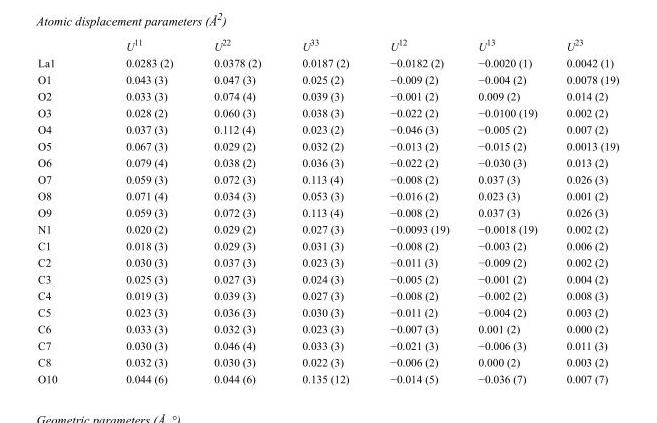table: (37, 36, 618, 384)
table column: (90, 36, 192, 384), (369, 36, 463, 384), (280, 36, 369, 384), (192, 36, 280, 384), (463, 36, 551, 384), (551, 36, 618, 384), (37, 36, 90, 384)
table column header: (37, 36, 618, 54)
table row: (37, 36, 618, 54), (37, 70, 618, 87), (37, 87, 618, 104), (37, 120, 618, 137), (37, 153, 618, 170), (37, 170, 618, 187), (37, 203, 618, 220), (37, 220, 618, 237), (37, 253, 618, 270), (37, 286, 618, 303), (37, 303, 618, 320), (37, 336, 618, 353), (37, 353, 618, 370), (37, 54, 618, 70), (37, 104, 618, 120), (37, 137, 618, 153), (37, 187, 618, 203), (37, 237, 618, 253), (37, 270, 618, 286), (37, 320, 618, 336), (37, 370, 618, 384)
